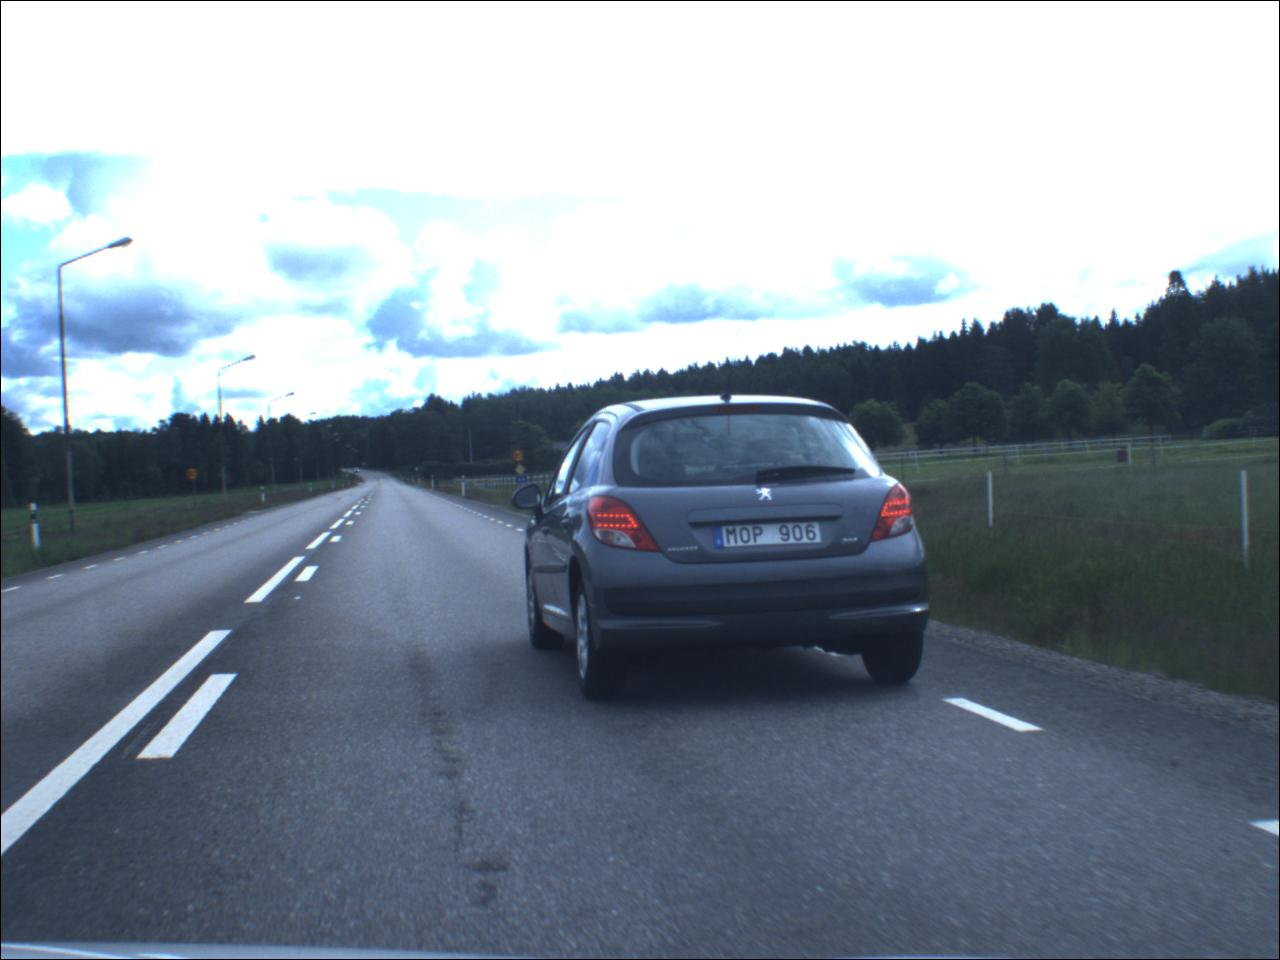80_SIGN: (512, 450, 529, 464), (186, 468, 202, 483)
PRIORITY_ROAD: (516, 465, 531, 479)
